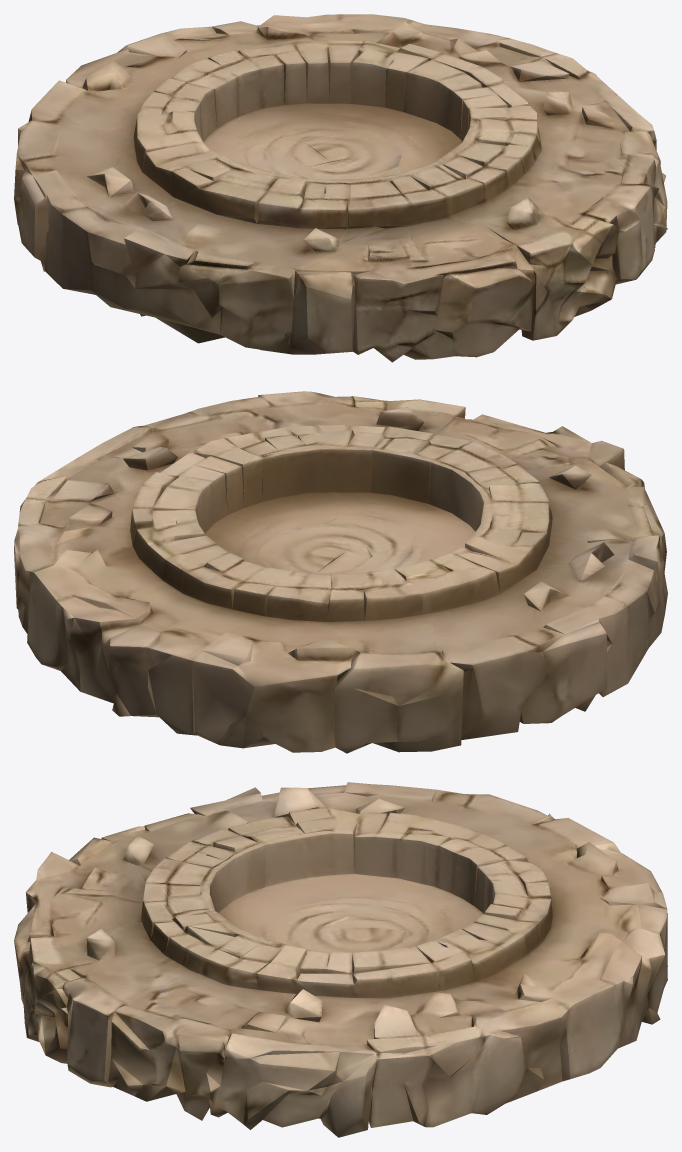
Rendered from m2PortalIsle.glb.
3 renders of one model, top to bottom at view 1: azimuth 30°, elevation 25°; view 2: azimuth 150°, elevation 25°; view 3: azimuth 270°, elevation 25°, orthographic. The views are drawn at different scales.
Parts seen in each view (by area): view 1: model; view 2: model; view 3: model.
Part boxes in pixels (x1,y1,x2,y2): model: [14, 14, 667, 362]; model: [14, 391, 667, 753]; model: [14, 782, 667, 1137].
Bounding box in the file's own units: 1.89 × 0.389 × 1.9.
1 material, 1 textured.
